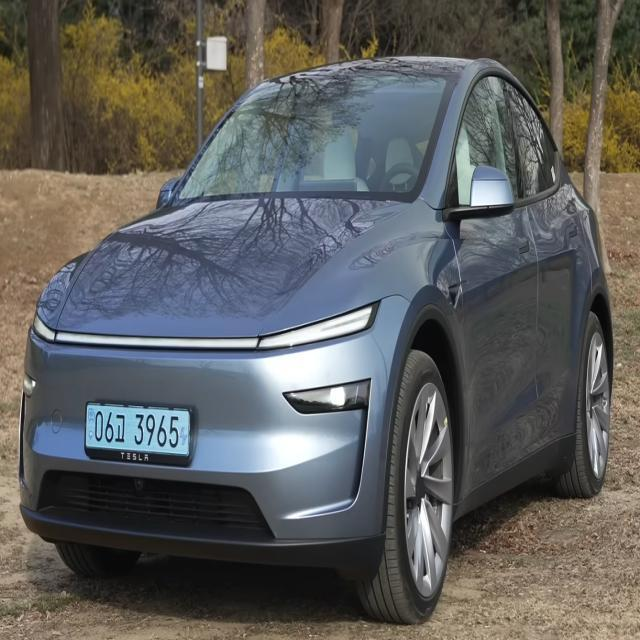car: (72, 392, 208, 477)
carev: (180, 404, 193, 458), (83, 399, 95, 452)
